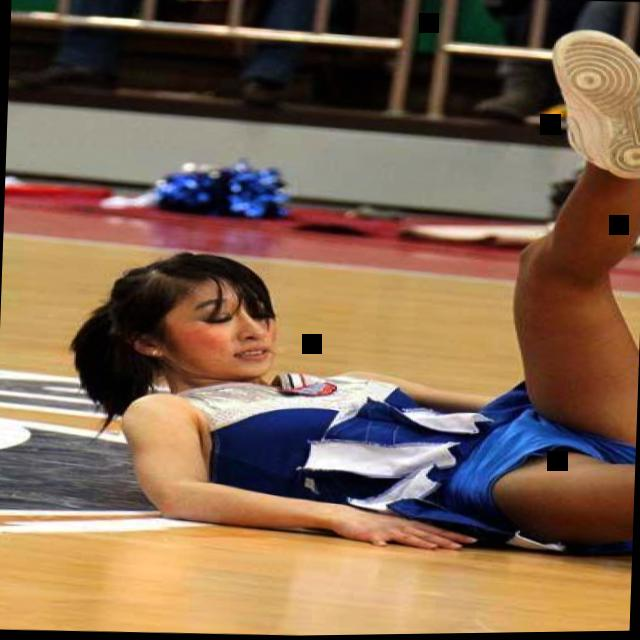Fall-Detected: (82, 51, 640, 517)
